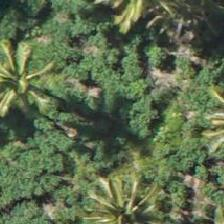coconut_tree: (69, 155, 159, 223), (0, 29, 53, 119)
